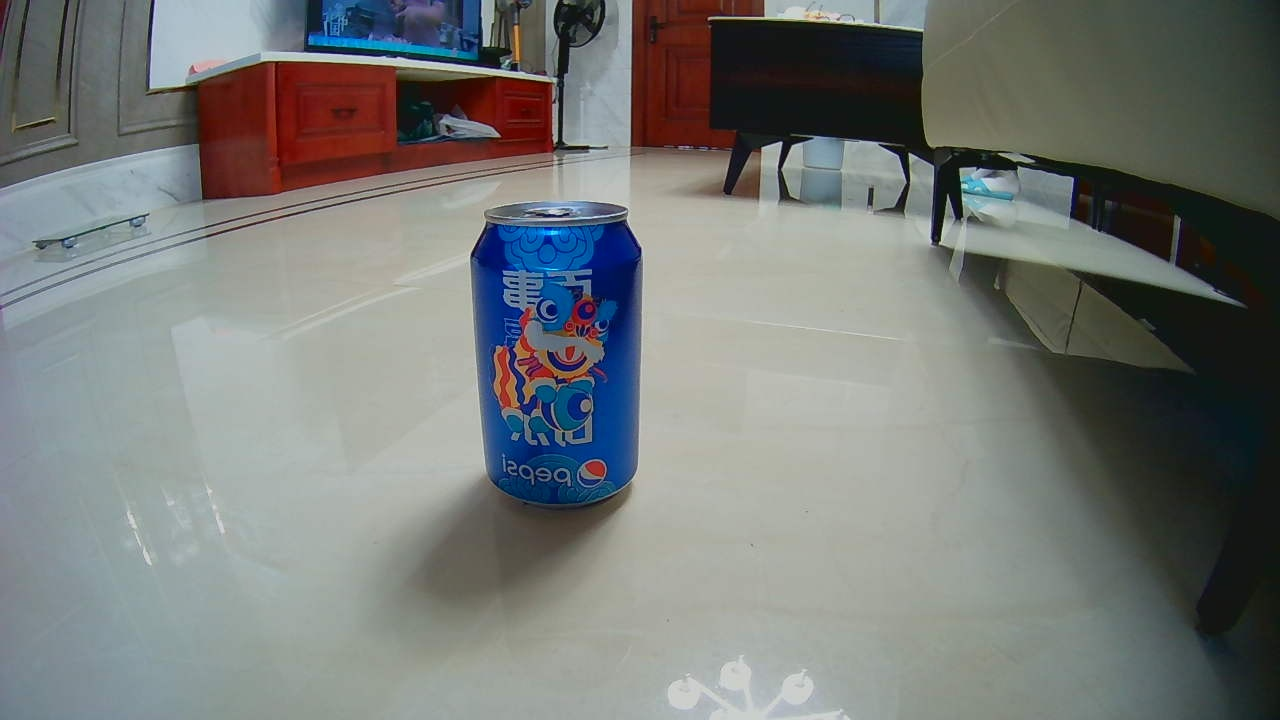pessi: (473, 207, 631, 498)
